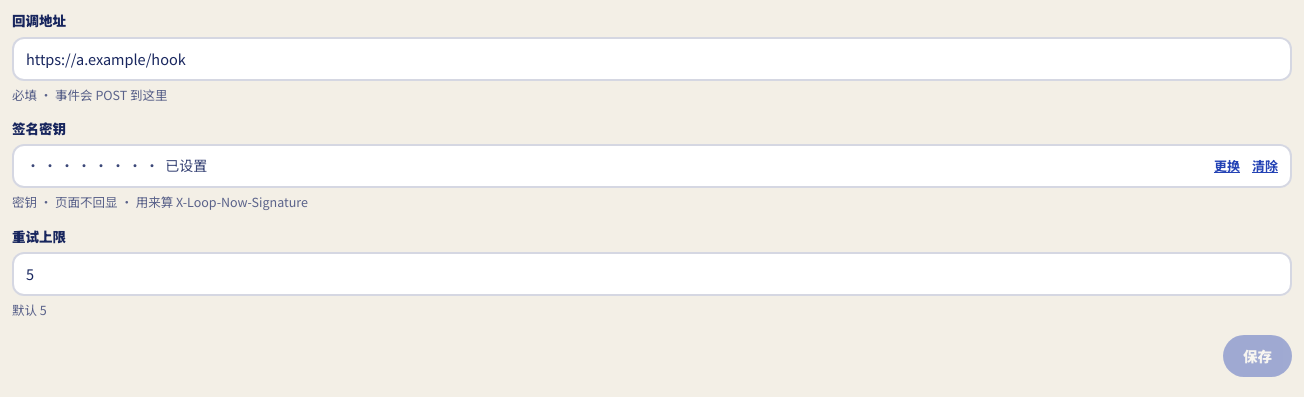
Test: 插件配置表单的保存 › 已设置的密钥只显示“已设置”；点更换出现输入框，保存时只发新值，并带上当前版本
Expected: the text "已设置" is shown, [165, 157, 207, 174]
Expected: the button "保存" is disabled, [1223, 335, 1292, 377]
Click the button with aria-label "更换 签名密钥": click(1227, 166) [1214, 155, 1240, 178]
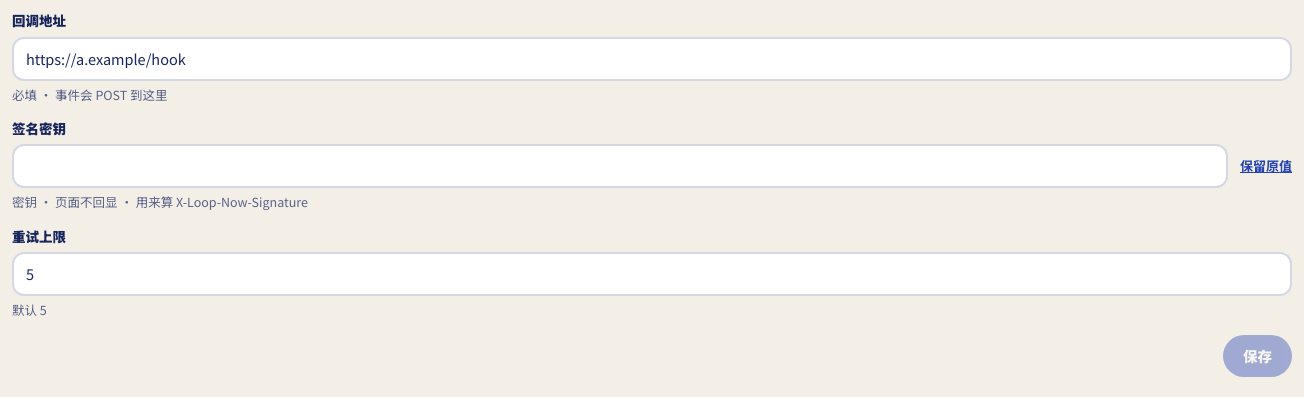
In the password field labelled "签名密钥": (620, 166) [12, 144, 1228, 188], type "new-secret"
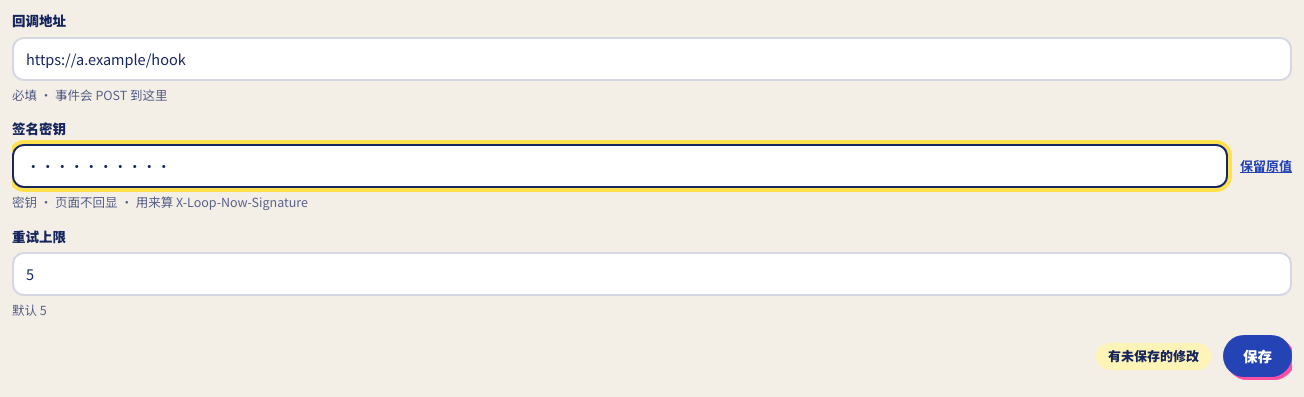
Click the button "保存": click(1258, 356) [1223, 335, 1292, 377]
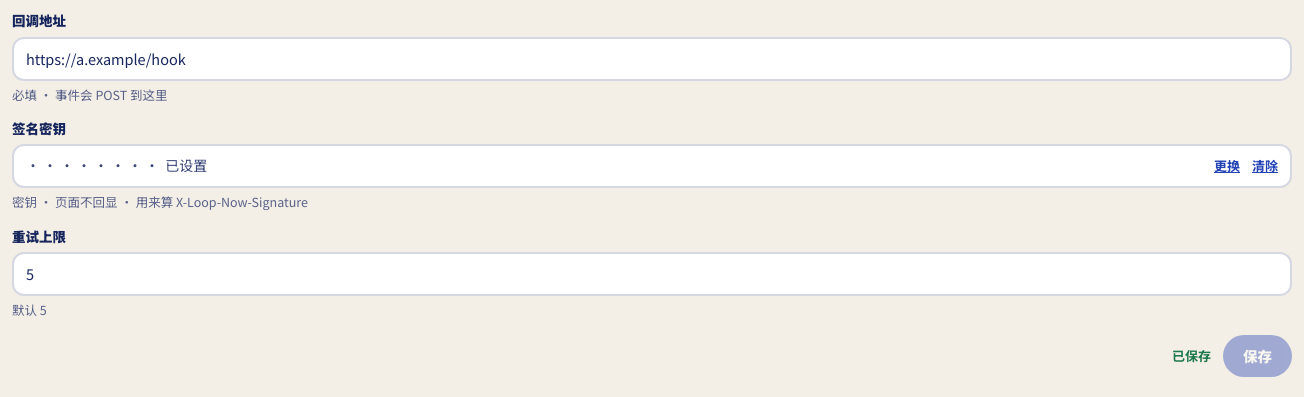
Expected: the text "已保存" is shown, [1172, 345, 1211, 368]
